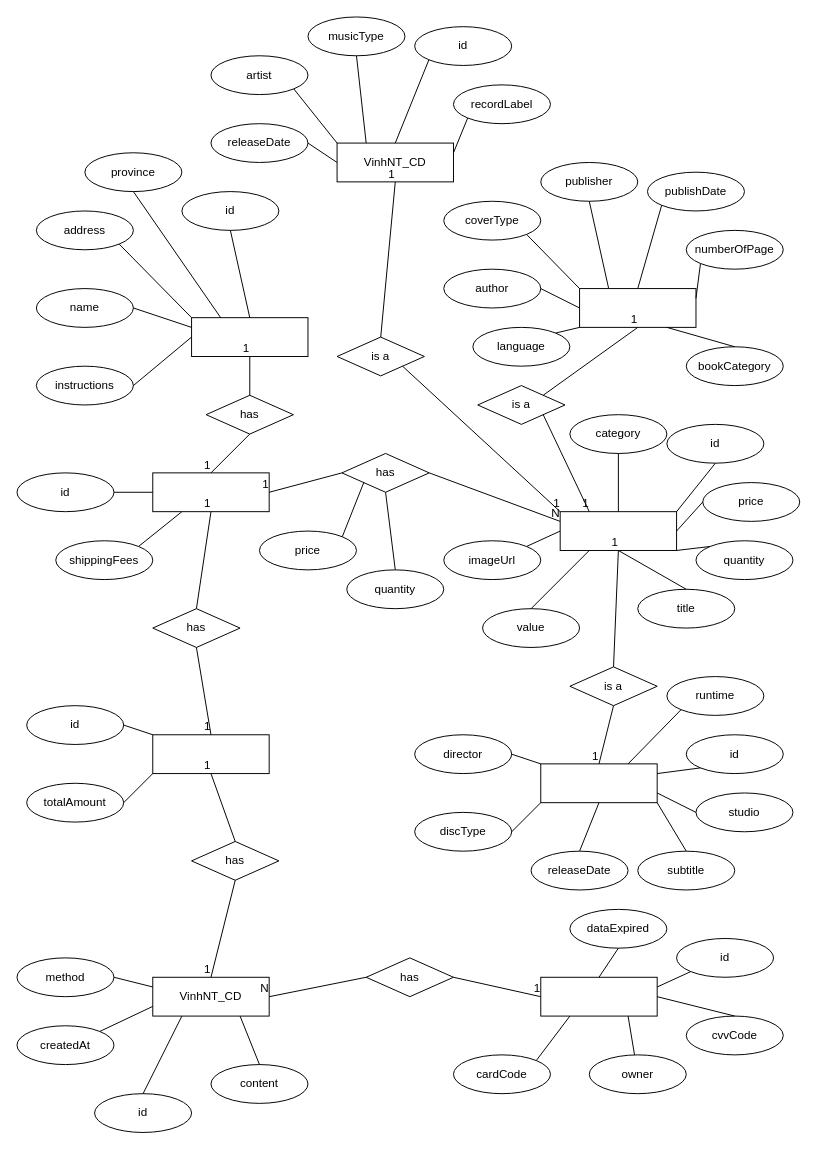
Image size: 817x1149. Some labels were removed from this diagram. The shapes that lost their labels are listed below. From the top down, each one's box as (x1, y1, x2, y2) in pixels, then its label:
(579, 288, 696, 327): VinhNT_Book
(191, 317, 308, 356): VinhNT_DeliveryInfo
(152, 472, 269, 512): VinhNT_Order
(559, 511, 677, 550): VinhNT_Media
(152, 734, 269, 774): VinhNT_invoice
(540, 763, 657, 803): VinhNT_DVD
(540, 976, 657, 1016): VinhNT_Card
